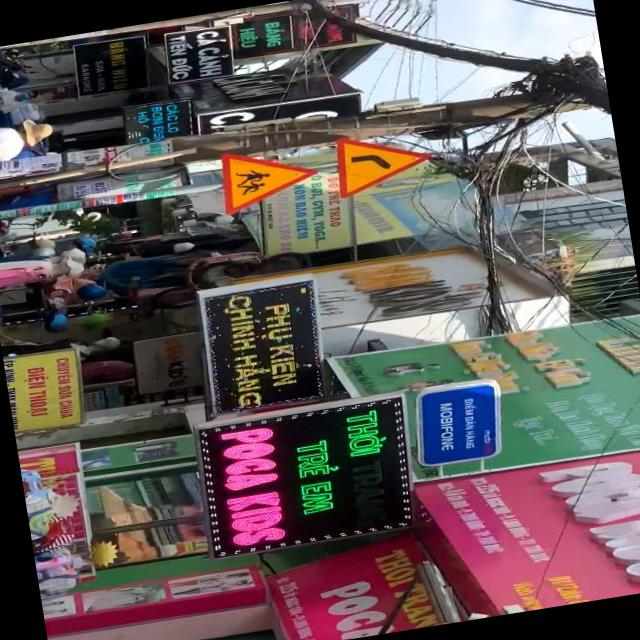W-201b: (328, 126, 434, 200)
W-225: (218, 137, 326, 214)
